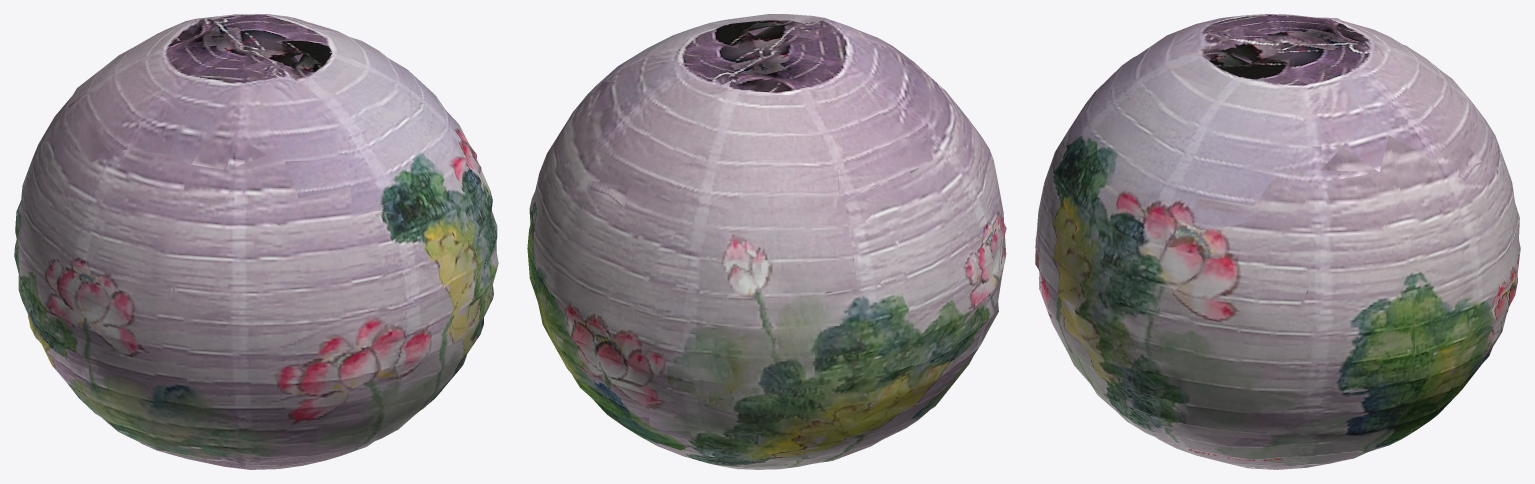
File: AS2 Felix Lotus.glb
The picture shows the model from 3 angles, left to right: view 1: azimuth 30°, elevation 25°; view 2: azimuth 150°, elevation 25°; view 3: azimuth 270°, elevation 25°; orthographic projection.
Size of the model in its own units: 990 by 929 by 1000.
1 material, 1 textured.
